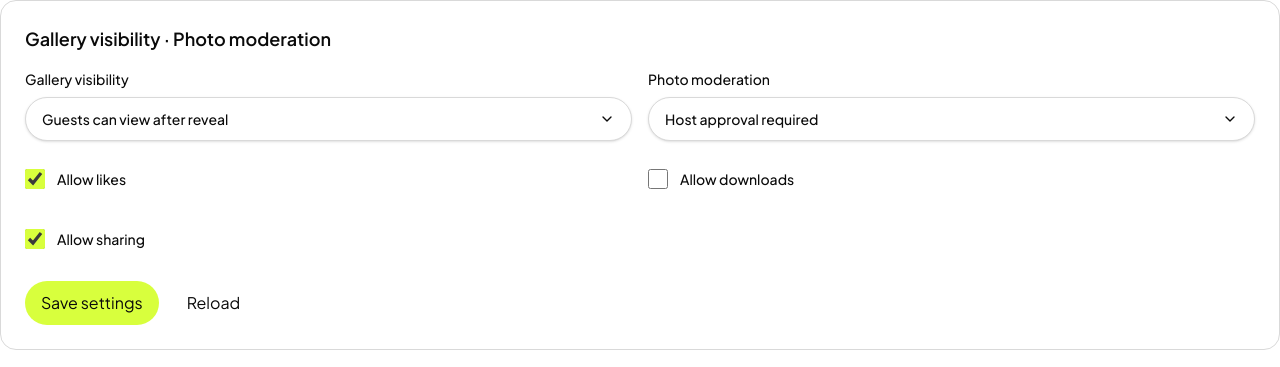
gallery settings visibility › supports HOST_ONLY without a compatibility visibility value
Click the dropdown named "Gallery visibility": coordinates (135, 119) [25,97,632,141]
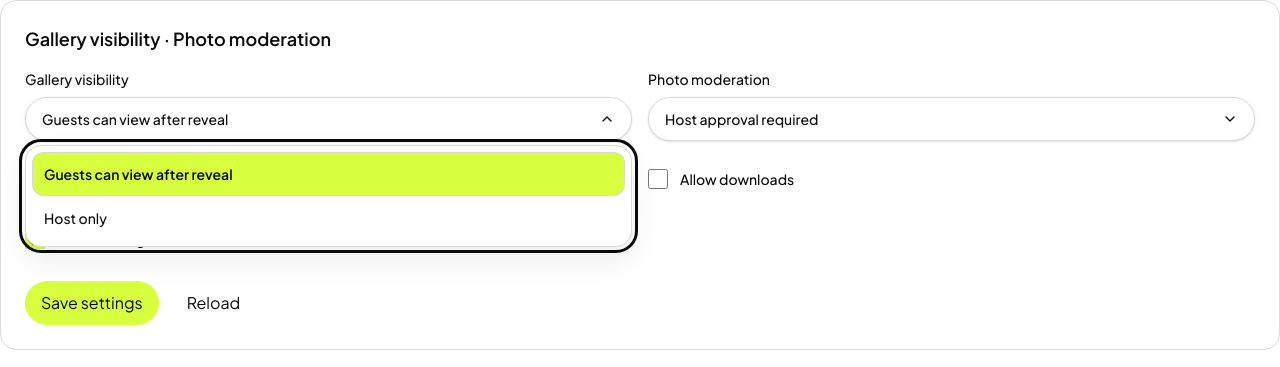
Click the option "Host only": coordinates (75, 218) [44,209,107,227]
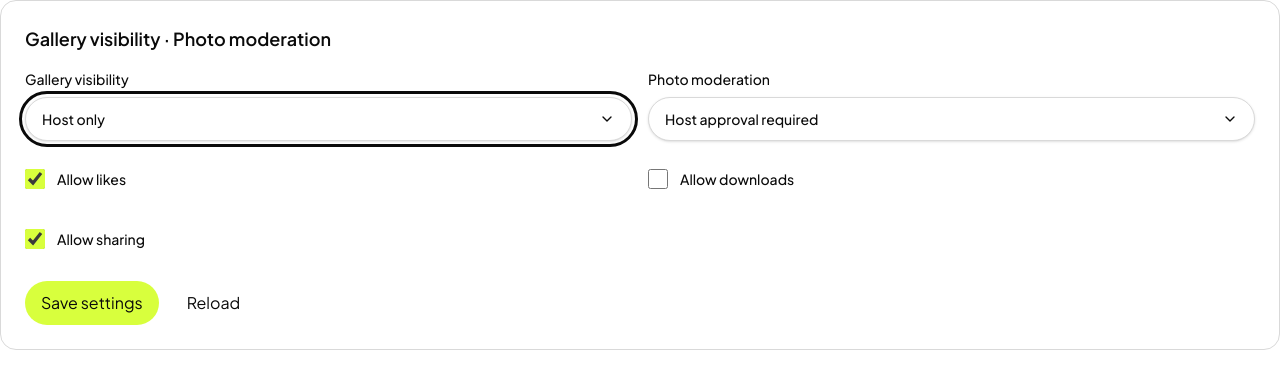
Now the dropdown named "Gallery visibility" reads "Host only", box [25,97,632,141]
